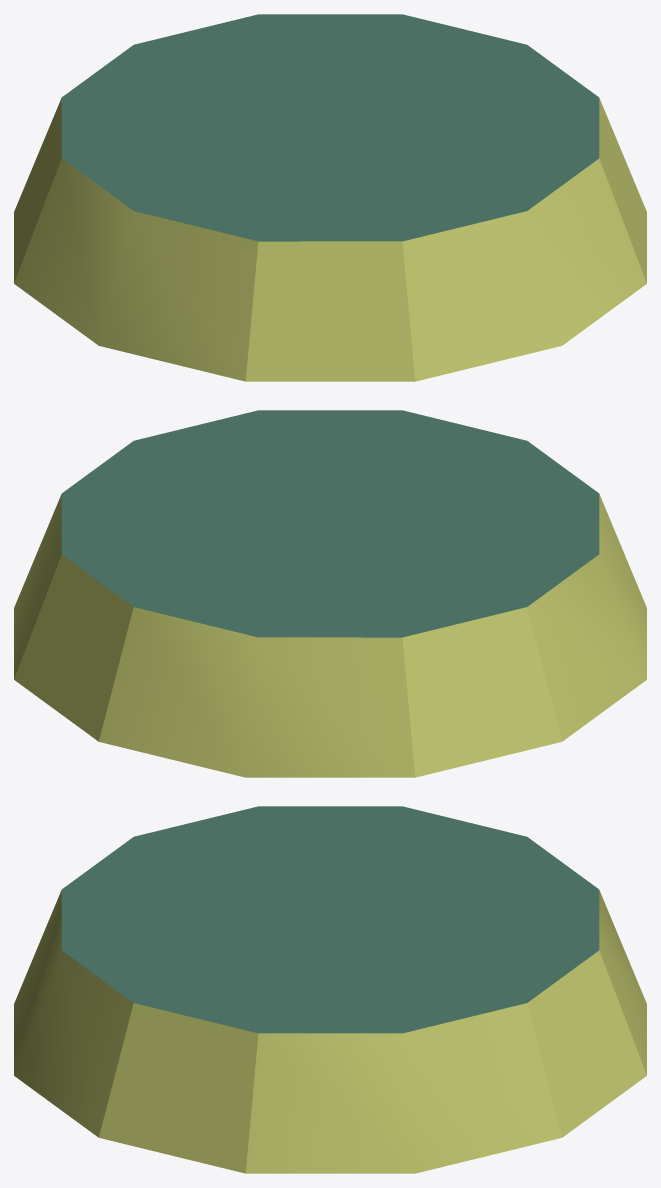
Rendered from module-draggable-02.glb.
3 views of the same model, one above another, from view 1: azimuth 30°, elevation 25°; view 2: azimuth 150°, elevation 25°; view 3: azimuth 270°, elevation 25° (orthographic).
Size of the model in its own units: 0.2969 by 0.081 by 0.2969.
